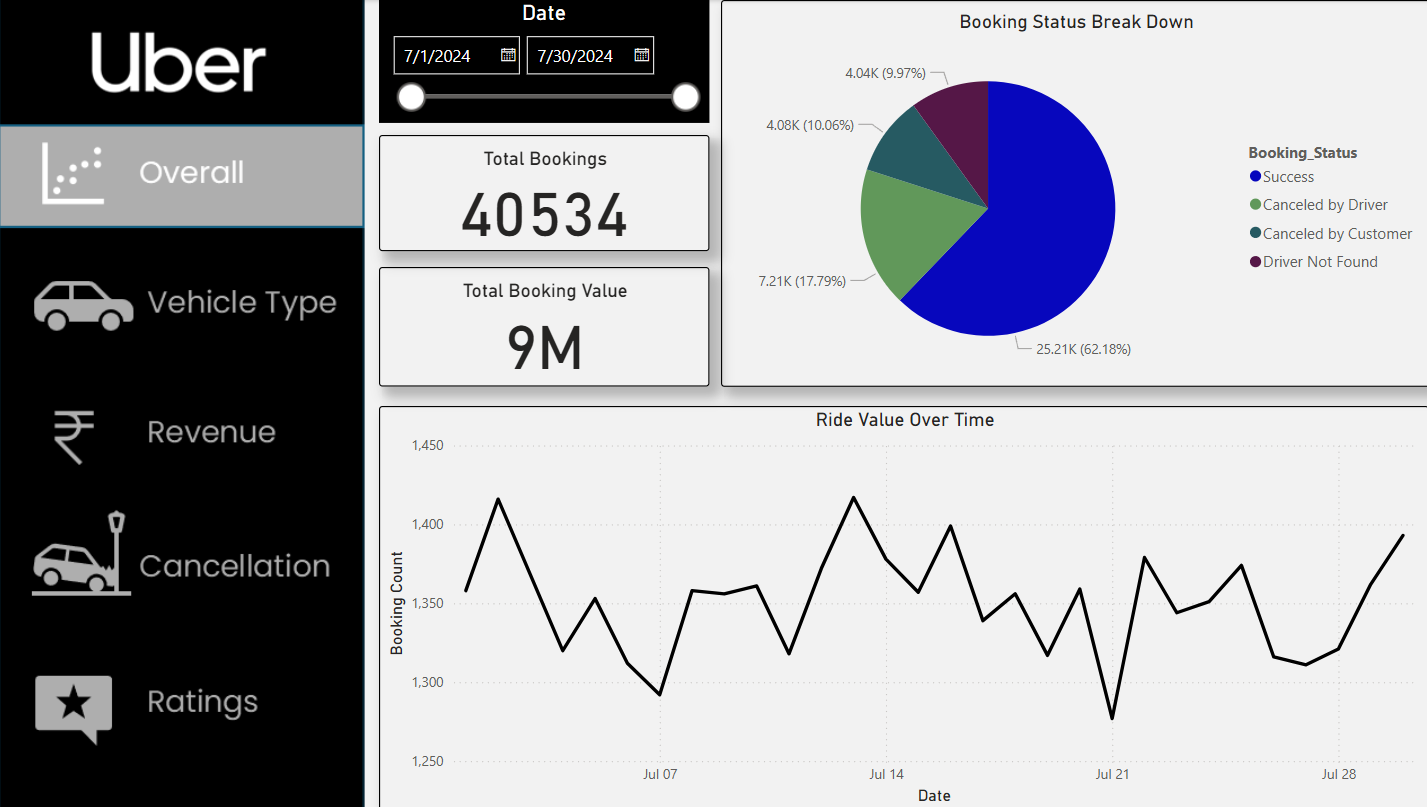

Layout of this report page (visuals, bound fields, positions):
{"tool":"powerbi","page":{"name":"Over All","canvas":[1280,720],"ordinal":0},"visuals":[{"type":"actionButton","box":[7.1,223.4,318.3,85.1],"z":0},{"type":"actionButton","box":[0,342.3,325.4,91.3],"z":1000},{"type":"actionButton","box":[0,449.6,325.4,97.5],"z":2000},{"type":"actionButton","box":[0,580.8,325.4,86.9],"z":3000},{"type":"lineChart","title":"Ride Value Over Time","fields":{"Y":["CountNonNull(July.Booking_ID)"],"Category":["July.Date"]},"box":[337.1,360,931.4,360],"z":4000},{"type":"pieChart","title":"Booking Status Break Down","fields":{"Category":["July.Booking_Status"],"Y":["CountNonNull(July.Booking_Status)"]},"box":[640,0,628.6,342.9],"z":5000},{"type":"slicer","title":"Date","fields":{"Values":["July.Date"]},"box":[337.1,0,292.9,108.6],"z":6000},{"type":"card","title":"Total Bookings","fields":{"Values":["CountNonNull(July.Booking_ID)"]},"box":[337.1,120,292.9,102.9],"z":7000},{"type":"card","title":"Total Booking Value","fields":{"Values":["Sum(July.Booking_Value)"]},"box":[337.1,237.1,292.9,105.7],"z":8000}]}

Visuals, with their boxes in screenshot pixels (x1, y1, x2, y2), scaled from the page's 1280x720 canvas onto the 1427x807 screenshot:
actionButton: bbox=[8, 250, 363, 346]
actionButton: bbox=[0, 384, 363, 486]
actionButton: bbox=[0, 504, 363, 613]
actionButton: bbox=[0, 651, 363, 748]
"Ride Value Over Time" lineChart: bbox=[376, 404, 1414, 806]
"Booking Status Break Down" pieChart: bbox=[714, 0, 1414, 384]
"Date" slicer: bbox=[376, 0, 702, 122]
"Total Bookings" card: bbox=[376, 134, 702, 250]
"Total Booking Value" card: bbox=[376, 266, 702, 384]
